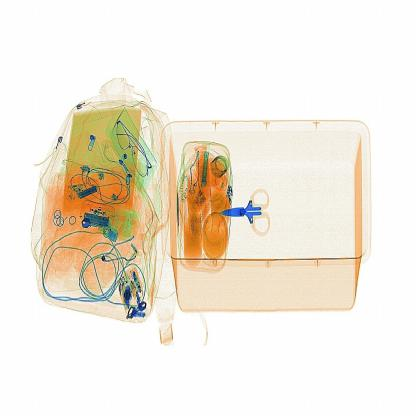gun: (220, 184, 276, 235)
